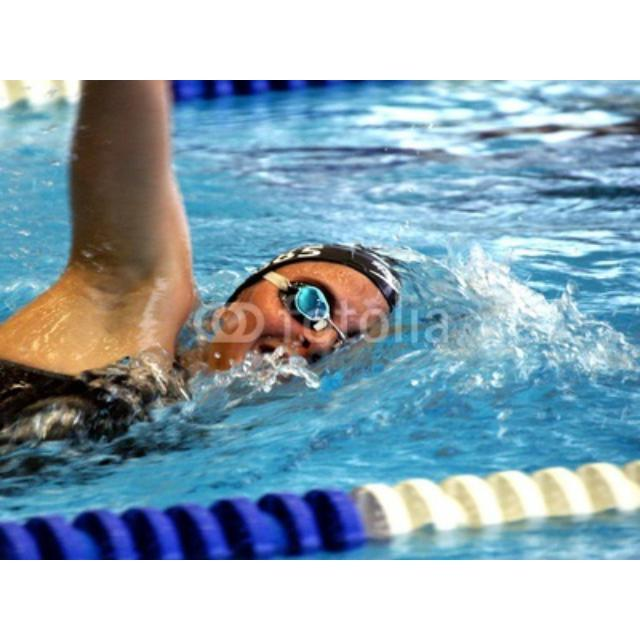human: (1, 82, 421, 475)
